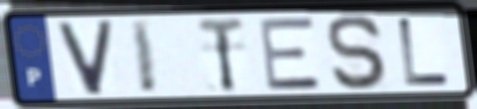E: (256, 15, 325, 93)
I: (127, 17, 161, 96)
L: (396, 15, 454, 88)
S: (324, 12, 393, 92)
T: (194, 15, 247, 95)
V: (53, 18, 117, 98)
